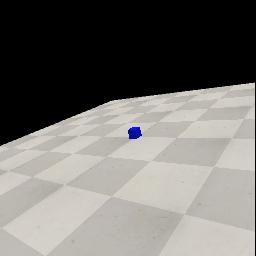box: (128, 127, 142, 139)
